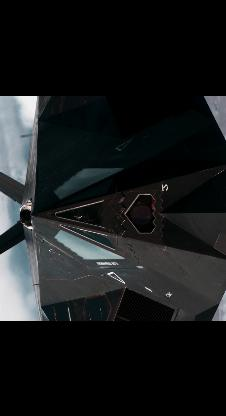E7: (0, 96, 225, 321)
